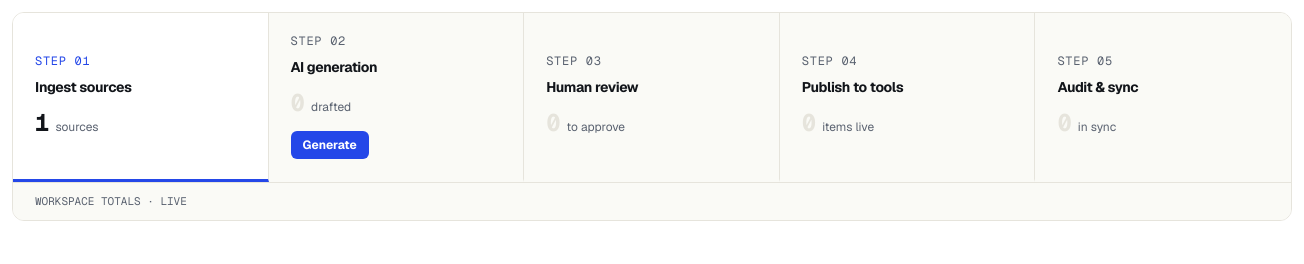
Test: PipelineStepper generate action › shows an error and does not refresh when the job itself fails
Click the button "Generate": (330, 145) top-left (291, 131), bottom-right (369, 159)
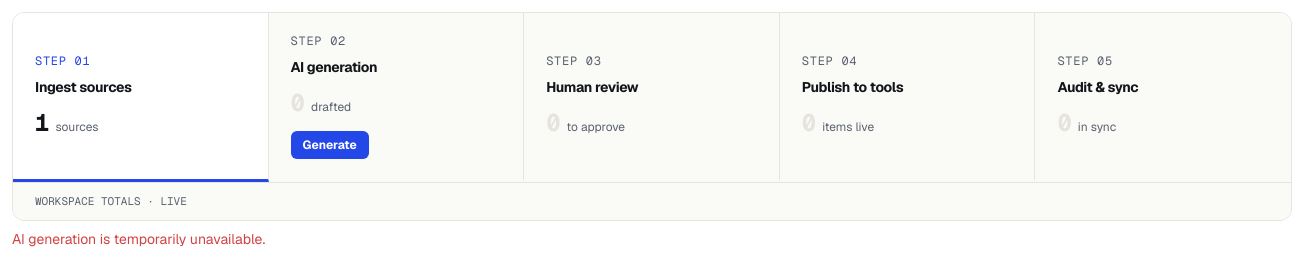
expect the text "AI generation is temporarily unavailable." is shown: met, box top-left (12, 230), bottom-right (265, 248)
